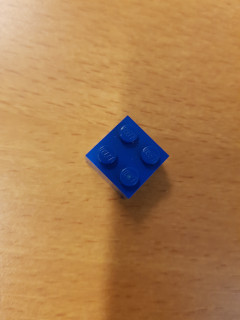2x2 blue: (83, 114, 170, 200)
